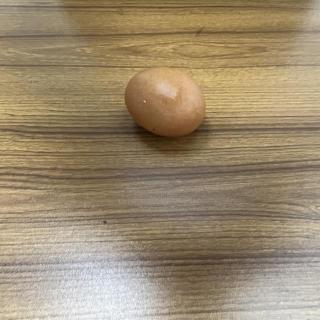Telur: (126, 67, 211, 141)
